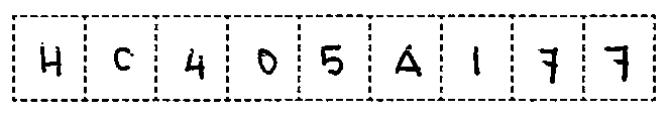0: (252, 43, 280, 79)
1: (457, 42, 492, 83)
4: (175, 42, 212, 82)
5: (315, 39, 352, 81)
7: (530, 40, 567, 88), (600, 40, 637, 86)
A: (390, 39, 425, 84)
C: (109, 41, 137, 79)
H: (30, 36, 69, 80)
